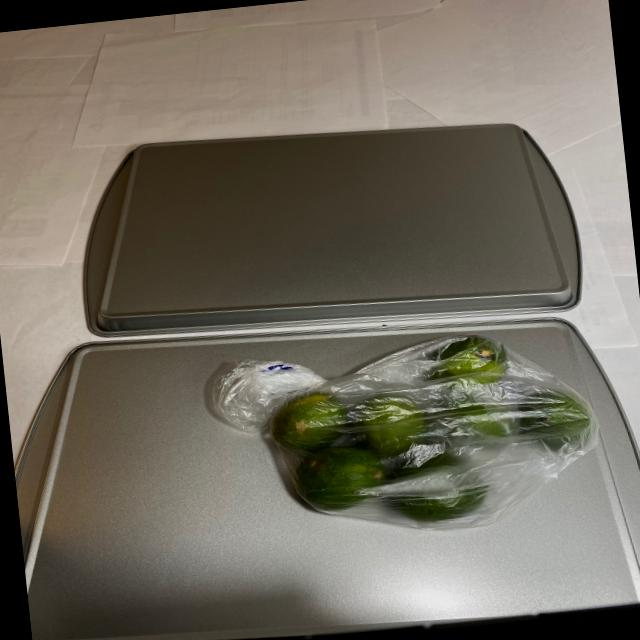lemon: (245, 329, 602, 537)
